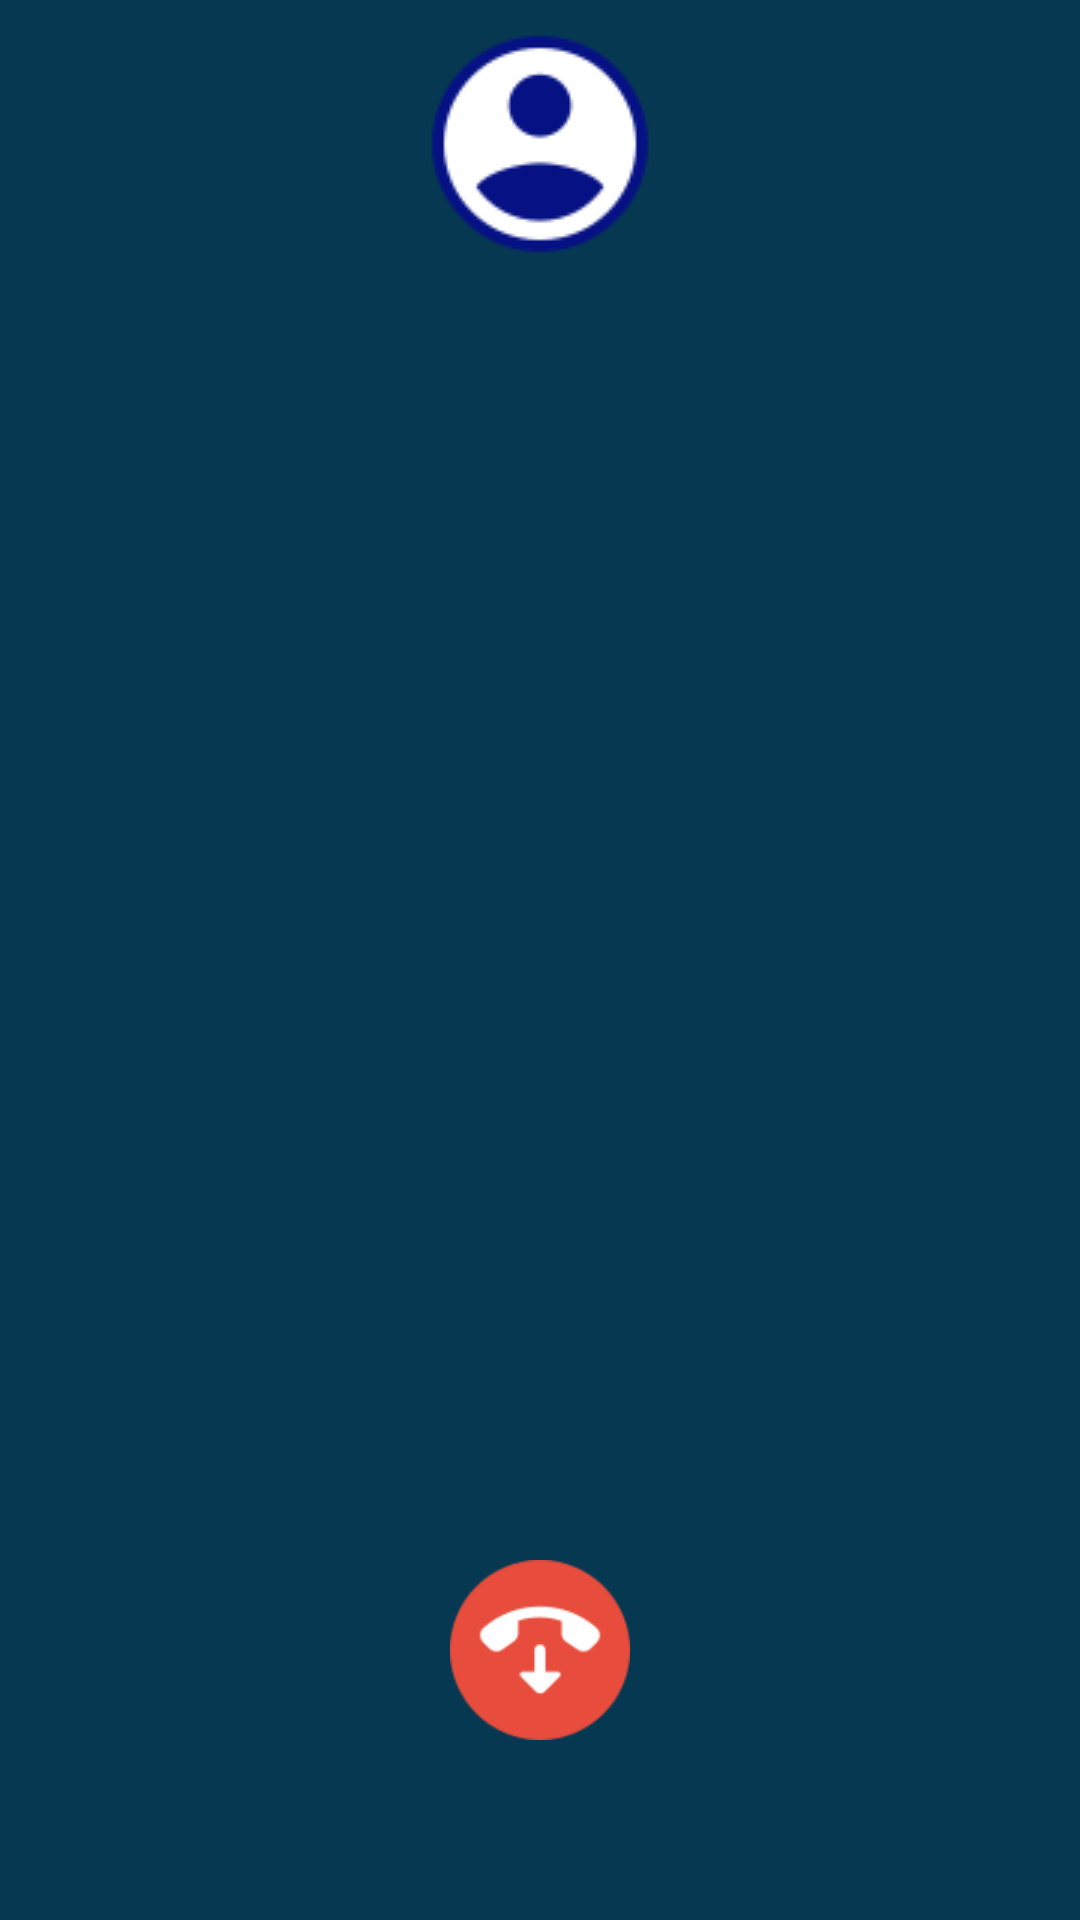

Where icons sit on this 1080*1920 app screen, as region(x1, y1, x2, y2):
end call: region(450, 1560, 630, 1740)
